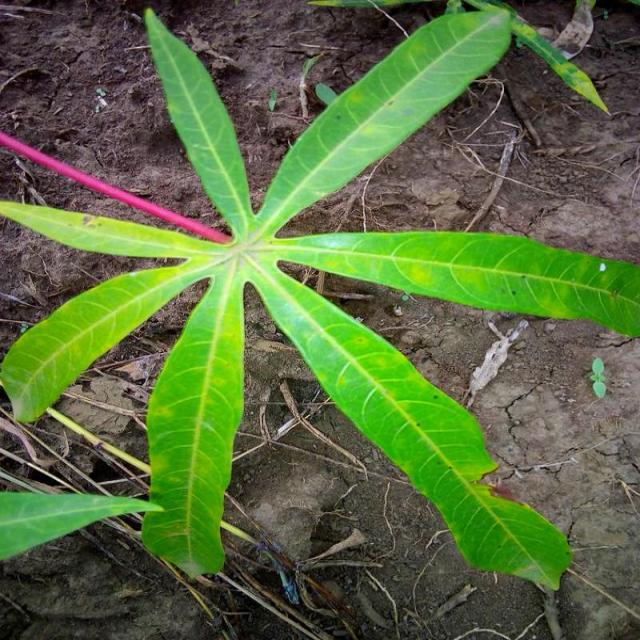cassava leaf: (2, 2, 639, 594), (142, 258, 247, 579)
